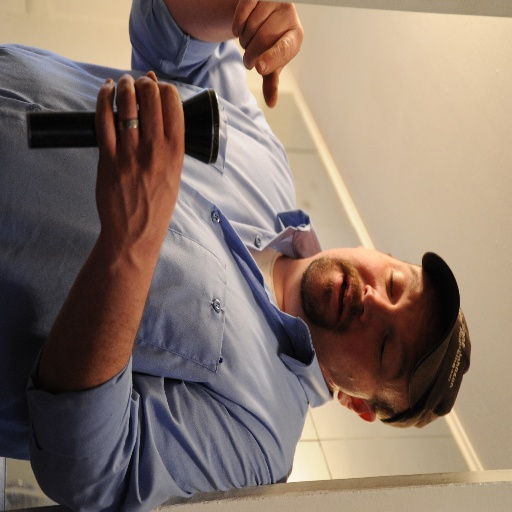hand: (94, 69, 186, 256), (219, 0, 304, 70)
